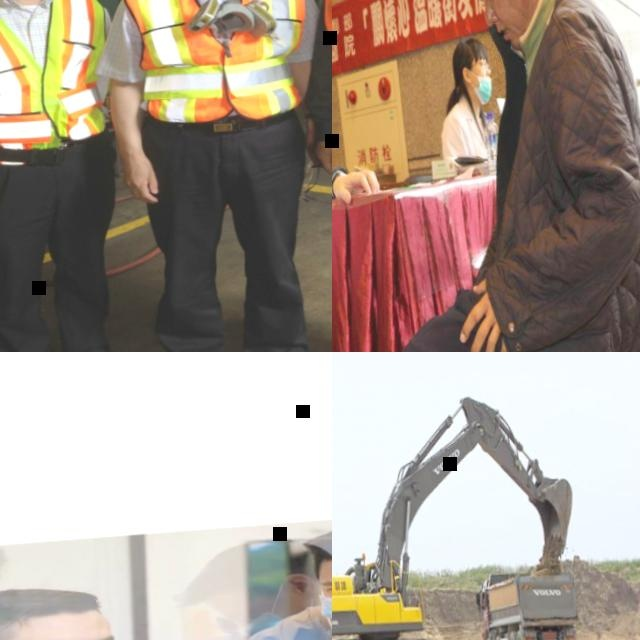Mask: (223, 609, 320, 640), (473, 74, 495, 107)
NO-Hardhat: (170, 538, 331, 601), (0, 580, 107, 640), (448, 36, 487, 66)
NO-Mask: (493, 0, 533, 50)
NO-Safety Vest: (487, 0, 640, 331), (448, 100, 493, 159)
Person: (332, 0, 640, 352), (80, 0, 332, 352), (0, 0, 143, 352), (78, 510, 332, 640), (171, 532, 332, 640), (432, 33, 506, 166)
Safety Vest: (116, 0, 313, 128), (0, 0, 115, 168)
machinery: (332, 385, 586, 640), (472, 566, 582, 640)
